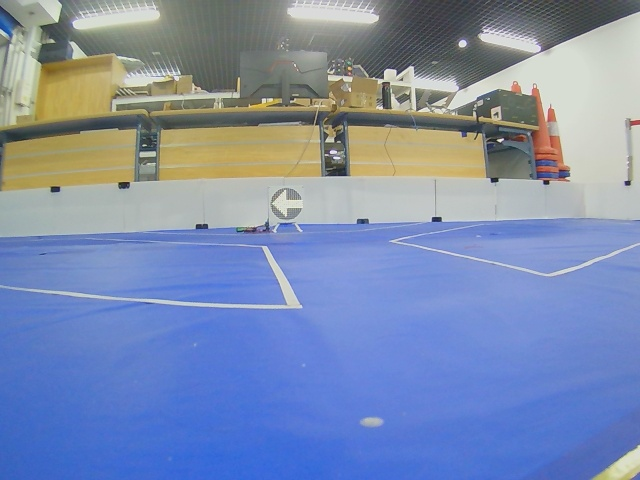left_yellow: (270, 187, 303, 221)
